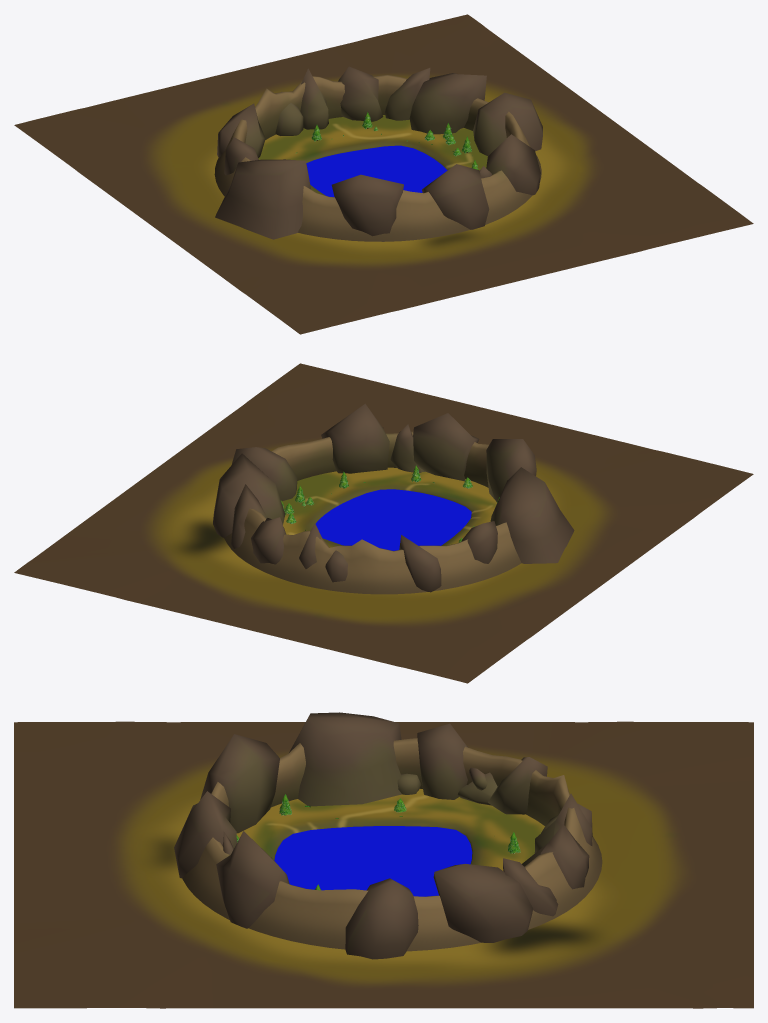
File: earthhsssss.fbx
3 views of the same model, one above another, from view 1: azimuth 30°, elevation 25°; view 2: azimuth 150°, elevation 25°; view 3: azimuth 270°, elevation 25° (orthographic). The views are drawn at different scales.
Visible parts, largest first — view 1: Plane.001, Sphere, Cube.007, Plane, Cube.015, Cube.010, Cube.011, Cube.004, Cube.012, Cube.013, Cube.003, Cube.016 (+3 smaller); view 2: Plane.001, Sphere, Plane, Cube.007, Cube.012, Cube.011, Cube.015, Cube.010, Cube.004, Cube.003, Cube.013, Cube.005 (+2 smaller); view 3: Plane.001, Sphere, Plane, Cube.007, Cube.015, Cube.010, Cube.004, Cube.012, Cube.005, Cube.011, Cube.003, Cube.013 (+3 smaller).
Part boxes in pixels (left/top/right/bottom): Plane.001: left=14, top=14, right=753, bottom=334; Sphere: left=214, top=75, right=541, bottom=241; Cube.007: left=215, top=159, right=310, bottom=239; Plane: left=306, top=145, right=447, bottom=197; Cube.015: left=409, top=73, right=486, bottom=134; Cube.010: left=331, top=174, right=403, bottom=236; Cube.011: left=422, top=164, right=489, bottom=229; Cube.004: left=473, top=92, right=542, bottom=155; Cube.012: left=486, top=134, right=540, bottom=195; Cube.013: left=338, top=66, right=383, bottom=121; Cube.003: left=217, top=103, right=265, bottom=157; Cube.016: left=385, top=68, right=430, bottom=120; Plane.001: left=14, top=363, right=753, bottom=683; Sphere: left=224, top=431, right=521, bottom=594; Plane: left=315, top=489, right=471, bottom=550; Cube.007: left=490, top=467, right=574, bottom=563; Cube.012: left=321, top=403, right=389, bottom=473; Cube.011: left=413, top=413, right=479, bottom=481; Cube.015: left=213, top=453, right=285, bottom=537; Cube.010: left=486, top=439, right=536, bottom=501; Cube.004: left=232, top=447, right=297, bottom=501; Cube.003: left=399, top=535, right=441, bottom=592; Cube.013: left=251, top=517, right=286, bottom=564; Cube.005: left=461, top=521, right=497, bottom=563; Plane.001: left=14, top=721, right=753, bottom=1008; Sphere: left=182, top=738, right=602, bottom=951; Plane: left=274, top=826, right=472, bottom=896; Cube.007: left=289, top=712, right=401, bottom=806; Cube.015: left=433, top=863, right=532, bottom=942; Cube.010: left=200, top=734, right=279, bottom=833; Cube.004: left=345, top=878, right=418, bottom=959; Cube.012: left=216, top=831, right=289, bottom=928; Cube.005: left=417, top=723, right=468, bottom=799; Cube.011: left=174, top=791, right=236, bottom=878; Cube.003: left=488, top=757, right=547, bottom=814; Cube.013: left=522, top=824, right=589, bottom=889.
Size of the model in its own units: 69438 by 11021 by 75847.
